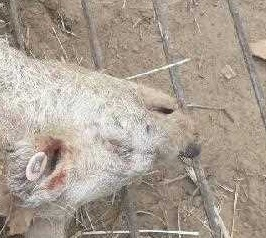text: (8, 139, 66, 191)
